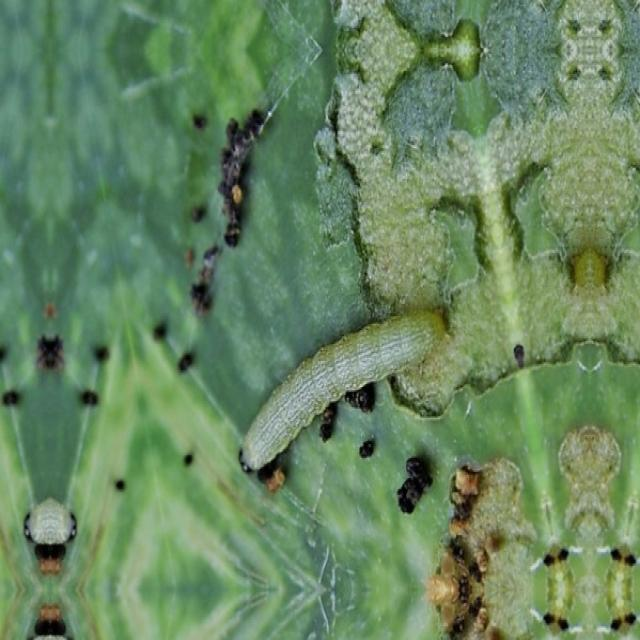armyworm: (237, 306, 447, 474)
